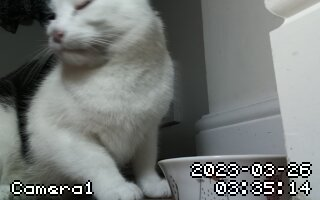bad: (6, 3, 186, 198)
